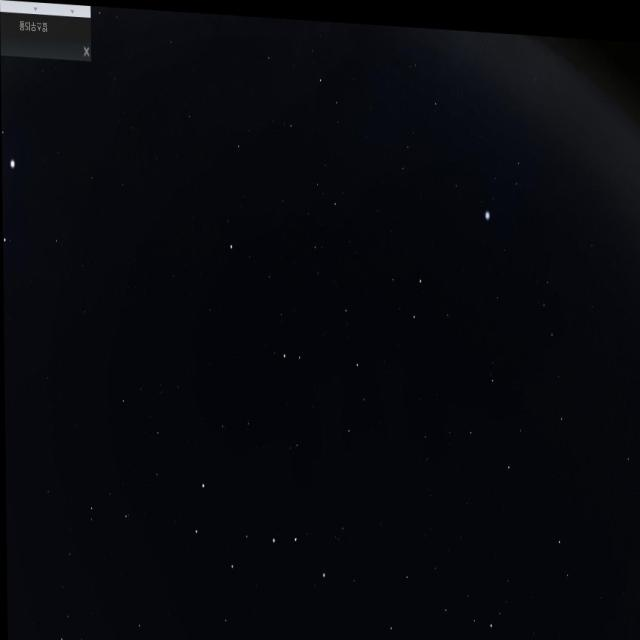lyra: (477, 128, 531, 231)
ursa_major: (187, 457, 335, 605)
